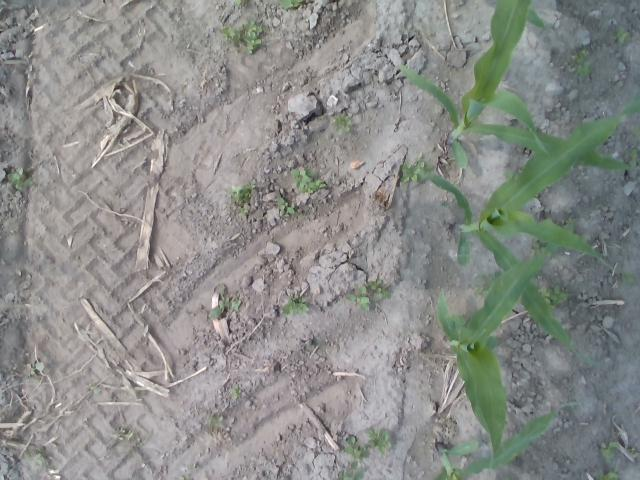Maize: (424, 101, 640, 364), (397, 0, 640, 176), (436, 219, 573, 476), (428, 399, 580, 480), (450, 0, 546, 31)
Weeds: (218, 19, 262, 54), (400, 152, 435, 184), (208, 284, 240, 319), (290, 168, 326, 194), (536, 284, 570, 308), (277, 198, 315, 219), (568, 48, 594, 78), (470, 271, 498, 298), (367, 430, 392, 456), (345, 286, 370, 312), (343, 434, 366, 462), (6, 167, 34, 190), (333, 462, 365, 480), (367, 279, 392, 302), (282, 294, 308, 315), (226, 184, 254, 203), (115, 428, 144, 446), (21, 450, 45, 469), (332, 113, 352, 132), (600, 441, 618, 460), (594, 468, 622, 480), (612, 27, 632, 43), (531, 236, 547, 255), (26, 362, 44, 376), (209, 412, 224, 428), (228, 384, 242, 400), (281, 0, 303, 10), (628, 147, 638, 166), (502, 169, 518, 180), (626, 446, 639, 458), (621, 271, 635, 282), (91, 386, 103, 396), (564, 216, 576, 223), (236, 207, 248, 214), (633, 128, 640, 139), (235, 0, 243, 4), (502, 477, 511, 480)
